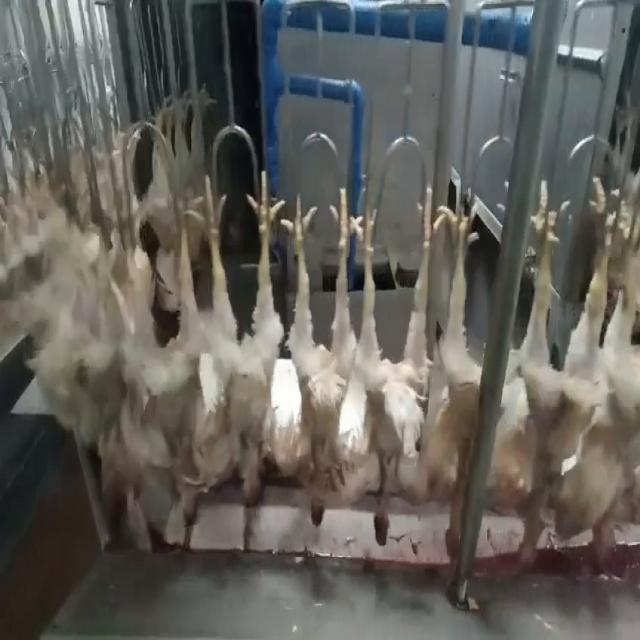chicken: (353, 177, 443, 549), (506, 180, 590, 576), (198, 163, 280, 514), (275, 178, 353, 530), (419, 182, 488, 561), (128, 173, 201, 526), (583, 162, 639, 574)
